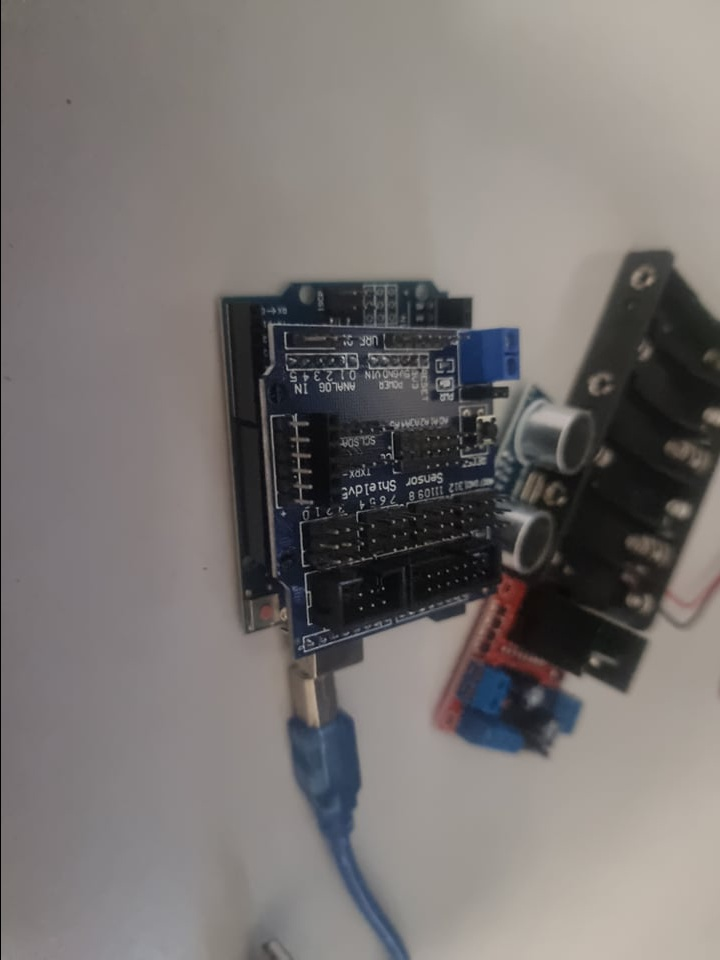5V EXPANSION: (275, 321, 521, 667)
BATTERY BOX: (542, 240, 716, 604)
MOTOR: (434, 609, 656, 766)
SENSOR: (481, 389, 591, 576)
